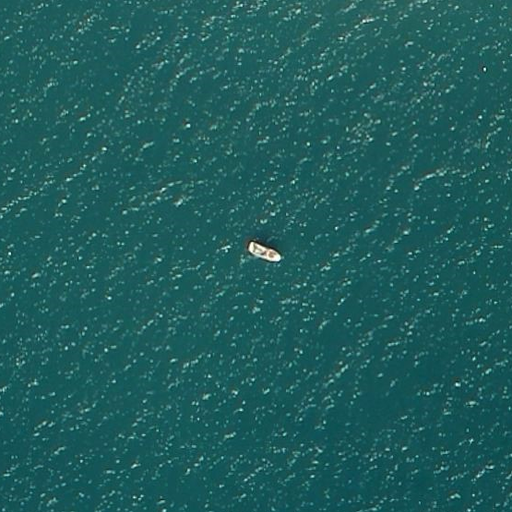ship: (246, 238, 284, 266)
